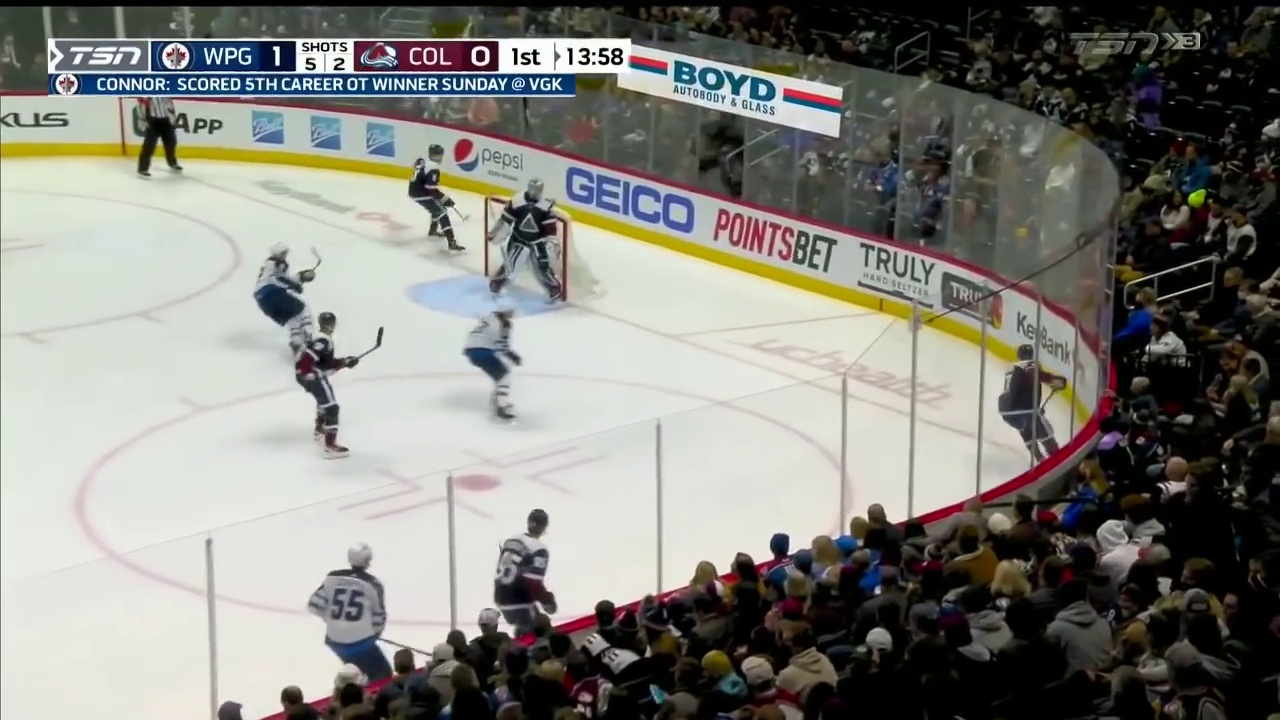goalie: (486, 179, 562, 304)
hockeyplayer: (308, 544, 394, 682), (294, 311, 358, 459), (493, 508, 558, 635), (998, 344, 1067, 463), (253, 242, 318, 357), (464, 298, 521, 423), (407, 145, 466, 254)
referee: (137, 97, 183, 179)
